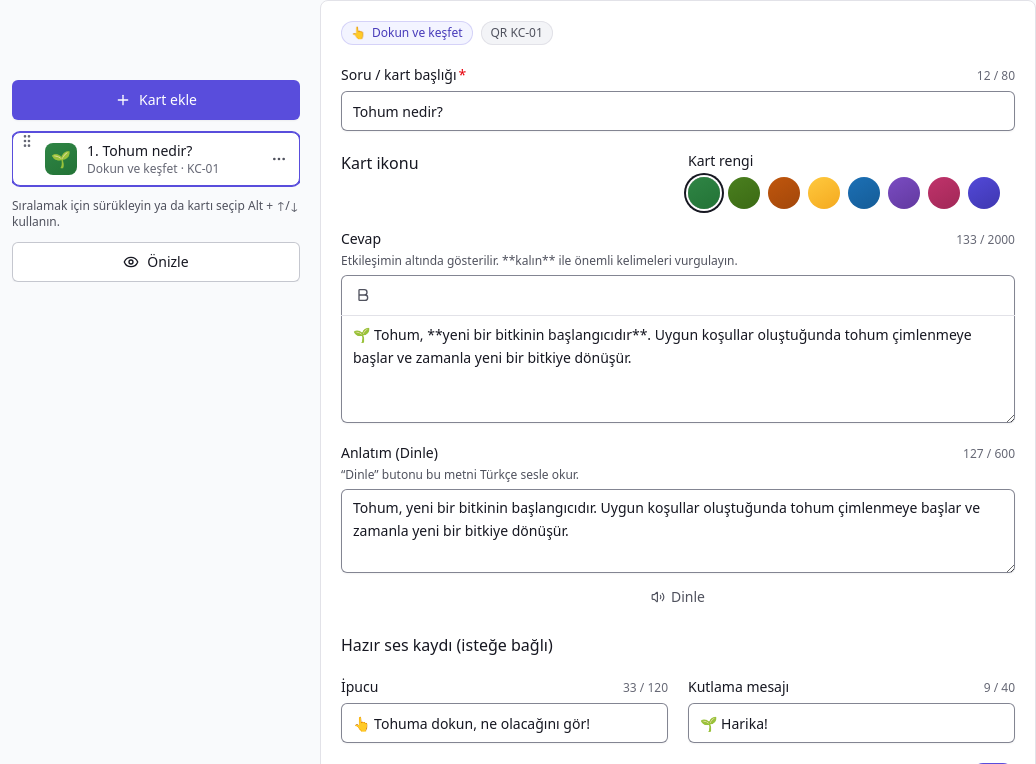
CardsTab › shows the empty state after deleting the only card and focuses "Kart ekle"
Click the button named "Tohum nedir? için işlemler" at [279, 159], box [263,143,295,175]
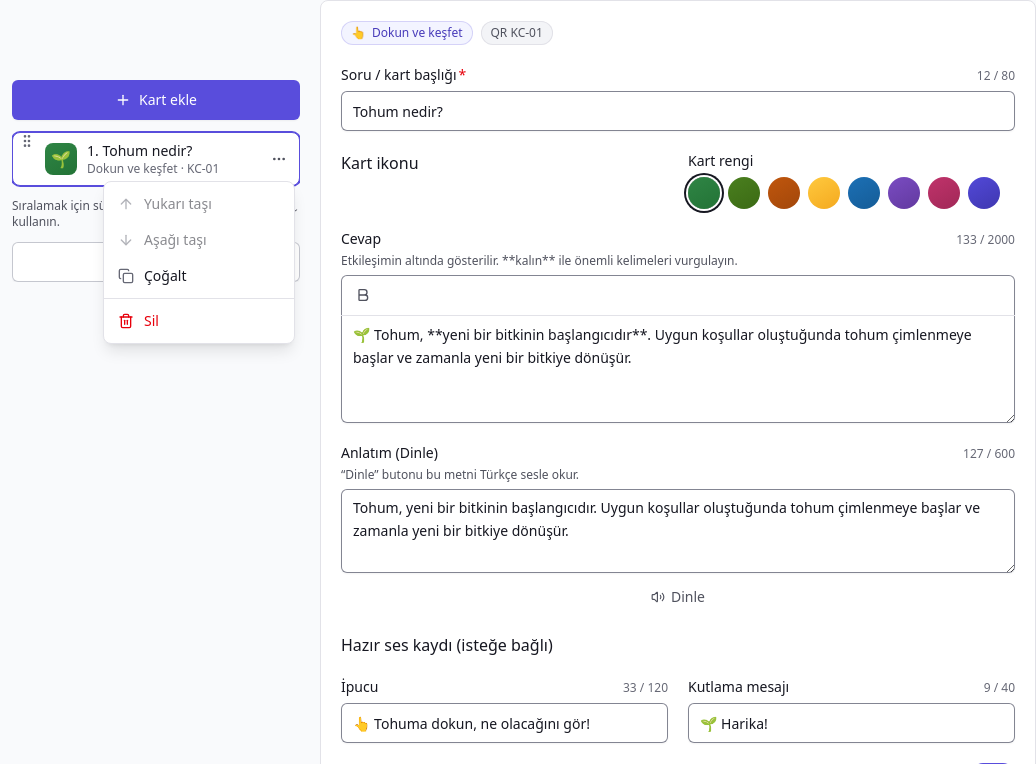
Click the menu item "Sil" at [126, 321], box [118,311,159,330]
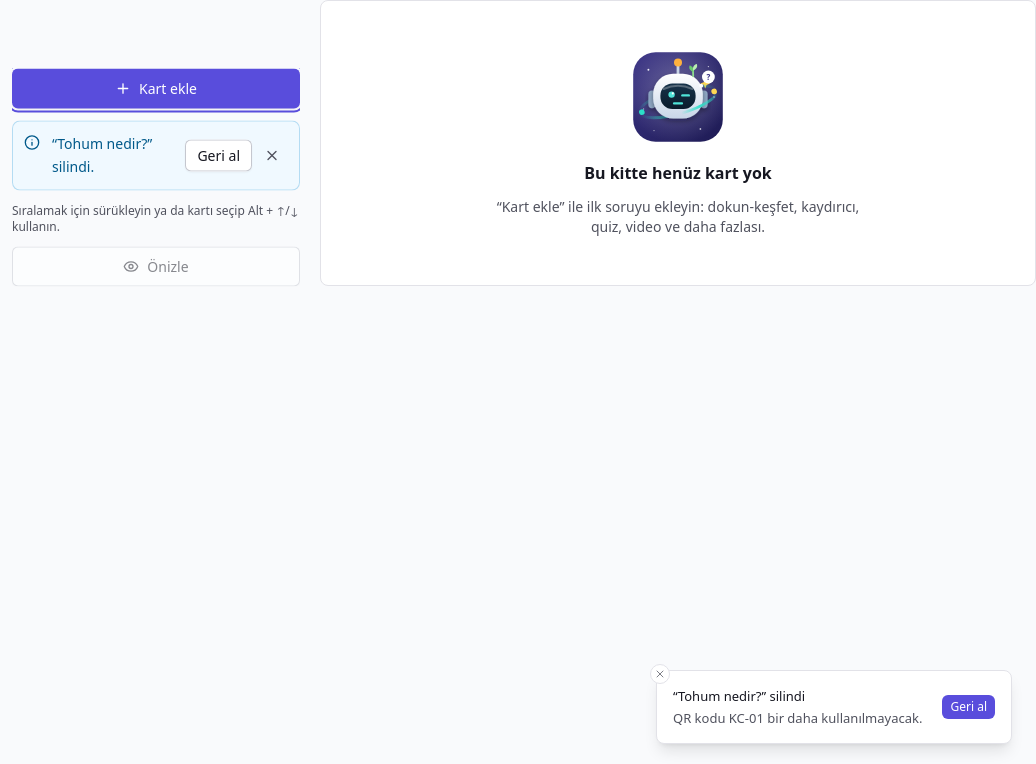
Now the heading "Bu kitte henüz kart yok" is shown, box [584,161,772,185]
